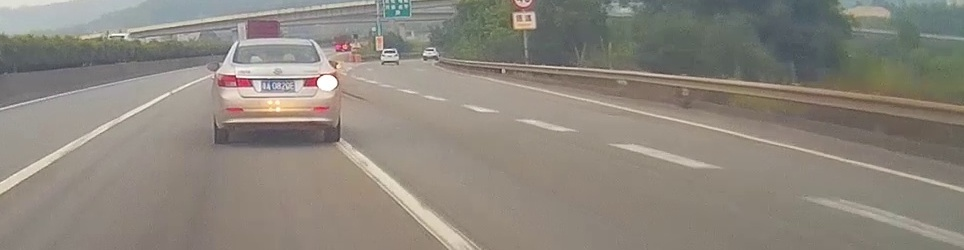L_light: (216, 73, 253, 88)
R_light: (303, 71, 338, 87)
T_light: (268, 60, 289, 63)
day-right: (211, 38, 341, 144)
